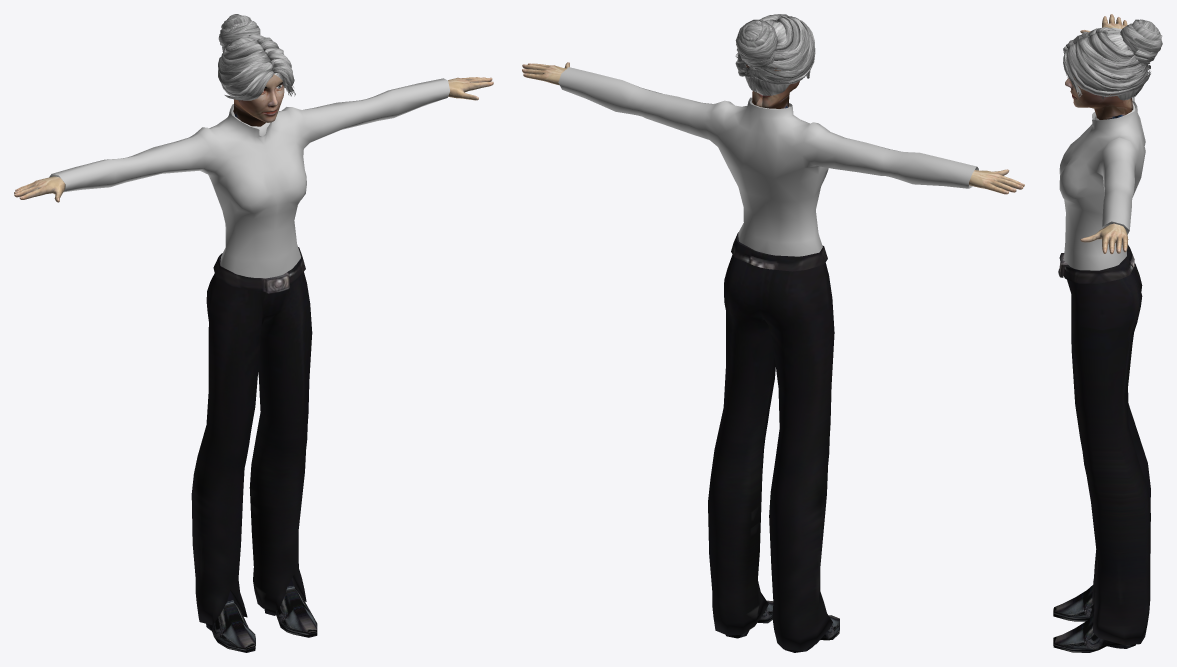
The model's file is DoctorRaw.fbx.
The picture shows the model from 3 angles, left to right: view 1: azimuth 30°, elevation 25°; view 2: azimuth 150°, elevation 25°; view 3: azimuth 270°, elevation 25°; orthographic projection. The views are drawn at different scales.
Visible parts, largest first — view 1: Doctor; view 2: Doctor; view 3: Doctor.
Part boxes in pixels (x1=…): Doctor: x1=14, y1=14, x2=493, y2=652; Doctor: x1=522, y1=14, x2=1024, y2=652; Doctor: x1=1053, y1=14, x2=1162, y2=652.
Bounding box in the file's own units: 358 × 428 × 69.63.
